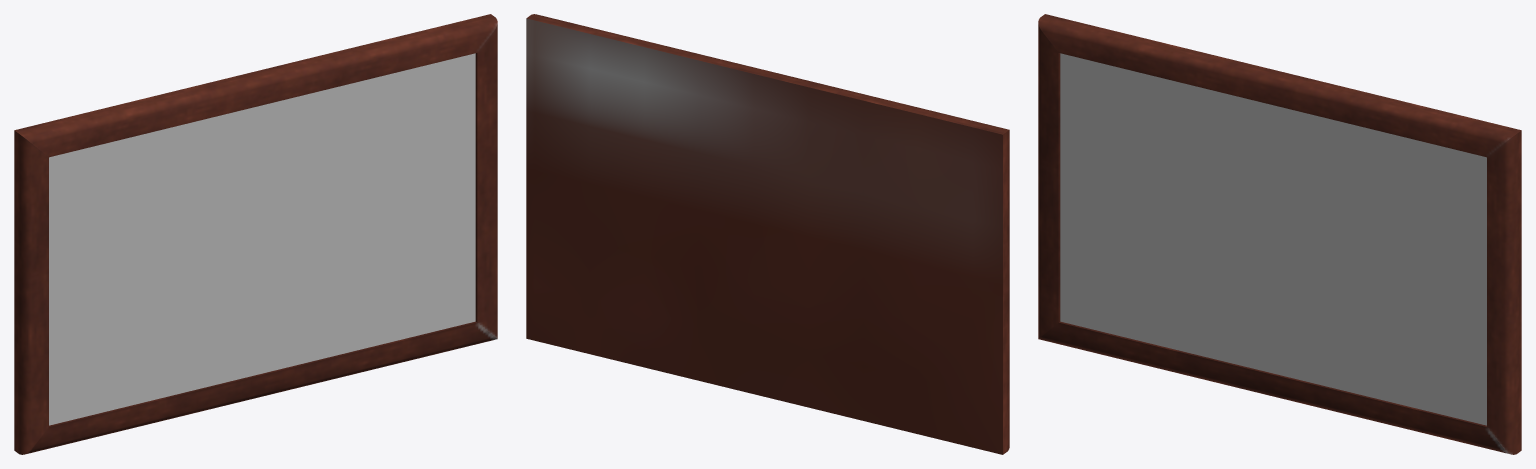
File: GlassBoard.fbx
The picture shows the model from 3 angles, left to right: view 1: azimuth 30°, elevation 25°; view 2: azimuth 150°, elevation 25°; view 3: azimuth 330°, elevation 25°; orthographic projection.
Visible parts, largest first — view 1: GlassBoard; view 2: GlassBoard; view 3: GlassBoard.
Boxes of the visible parts, x1=… form: GlassBoard: x1=14, y1=14, x2=497, y2=454; GlassBoard: x1=526, y1=14, x2=1009, y2=454; GlassBoard: x1=1038, y1=14, x2=1521, y2=454.
Bounding box in the file's own units: 3.38 × 2.17 × 0.1293.
